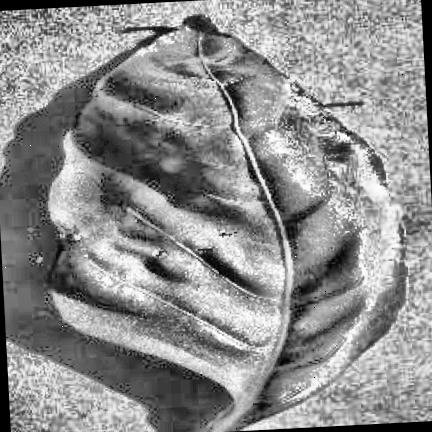leaf: (48, 16, 405, 431)
